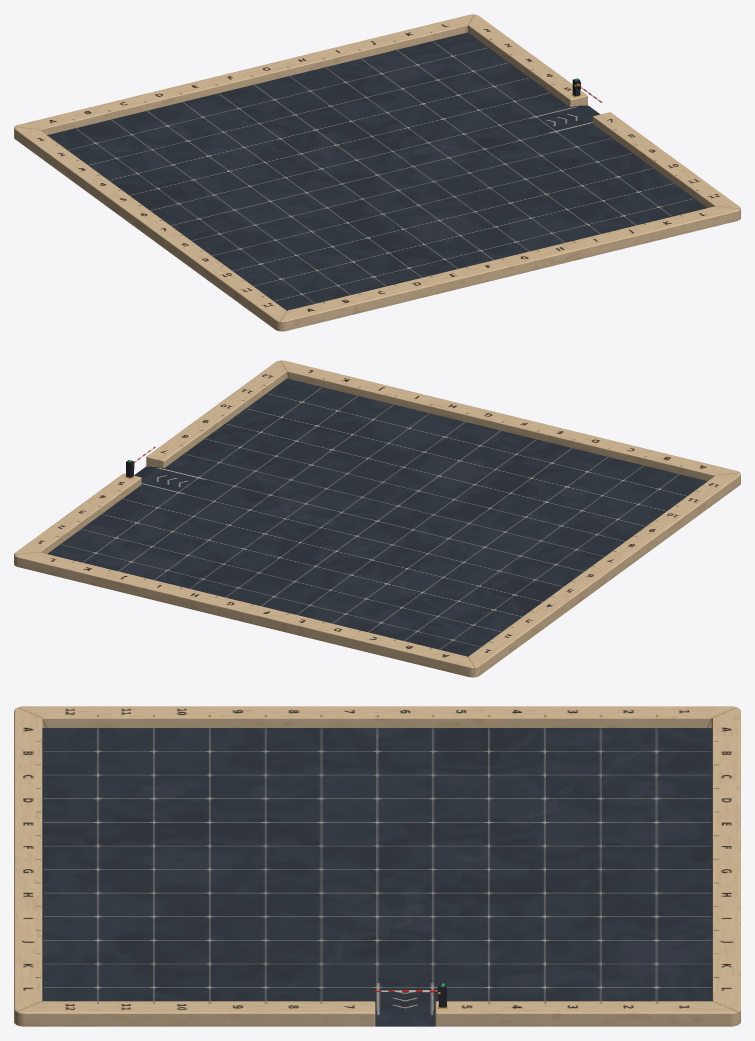
Rendered from board_tray_12x12.glb.
3 views of the same model, one above another, from view 1: azimuth 30°, elevation 25°; view 2: azimuth 150°, elevation 25°; view 3: azimuth 270°, elevation 25° (orthographic). The views are drawn at different scales.
Parts seen in each view (by area): view 1: Board_SlateDeck, Board_BeechFrame; view 2: Board_SlateDeck, Board_BeechFrame; view 3: Board_SlateDeck, Board_BeechFrame.
Boxes of the visible parts, box(x1,y1,x2,y2) form: Board_SlateDeck: box(47, 32, 707, 310); Board_BeechFrame: box(14, 14, 740, 331); Board_SlateDeck: box(47, 378, 707, 656); Board_BeechFrame: box(14, 360, 740, 677); Board_SlateDeck: box(42, 728, 712, 1026); Board_BeechFrame: box(14, 706, 740, 1026).
Bounding box in the file's own units: 28.64 × 1.62 × 28.64.
Materials: 7 (4 with a texture image).
